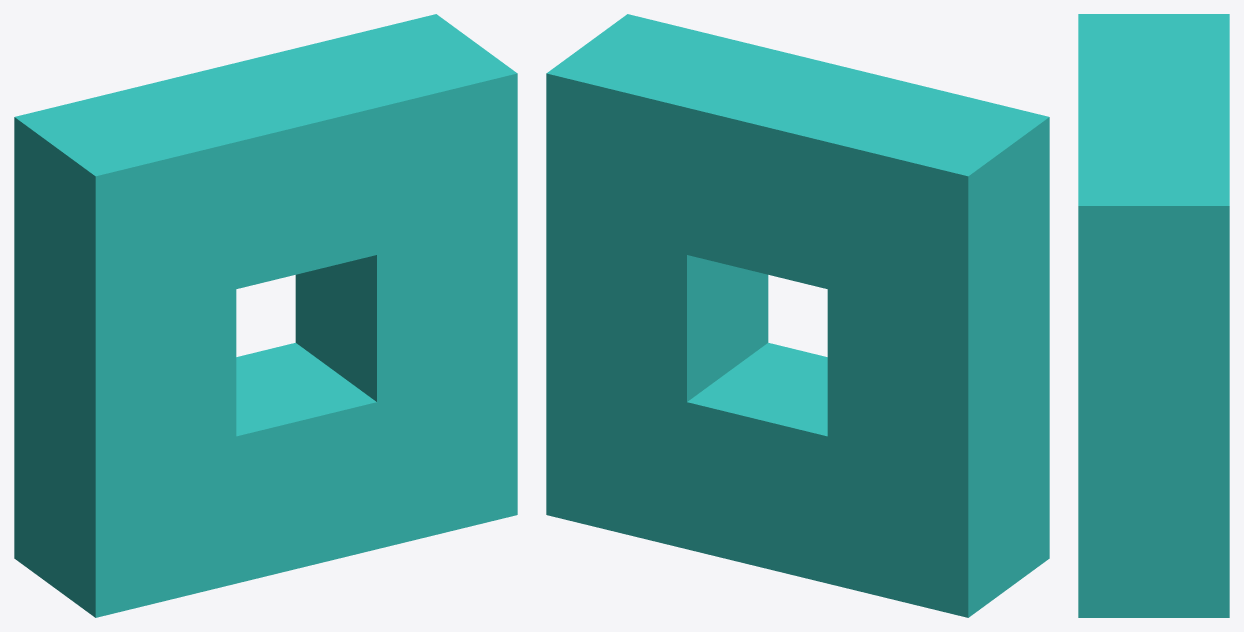
The model's file is bullet_blaster.glb.
The picture shows the model from 3 angles, left to right: view 1: azimuth 30°, elevation 25°; view 2: azimuth 150°, elevation 25°; view 3: azimuth 270°, elevation 25°; orthographic projection. The views are drawn at different scales.
Visible parts, largest first — view 1: Mesh_0; view 2: Mesh_0; view 3: Mesh_0.
Part boxes in pixels (x1,y1,x2,y2): Mesh_0: (14,14,517,617); Mesh_0: (546,14,1049,617); Mesh_0: (1078,14,1229,617).
Bounding box in the file's own units: 3 × 3 × 1.
